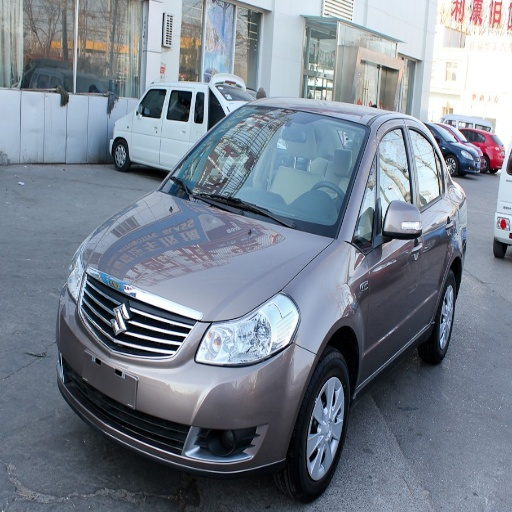front_bumper: (61, 322, 316, 472)
front_glass: (159, 106, 369, 236)
front_left_door: (357, 120, 420, 376)
